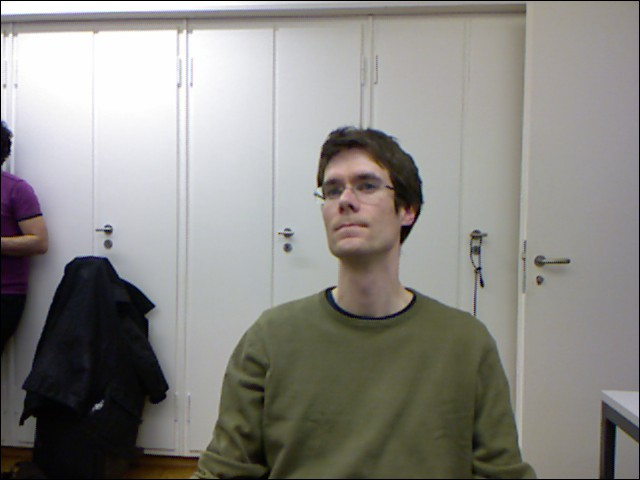deflection: (262, 145, 491, 480)
